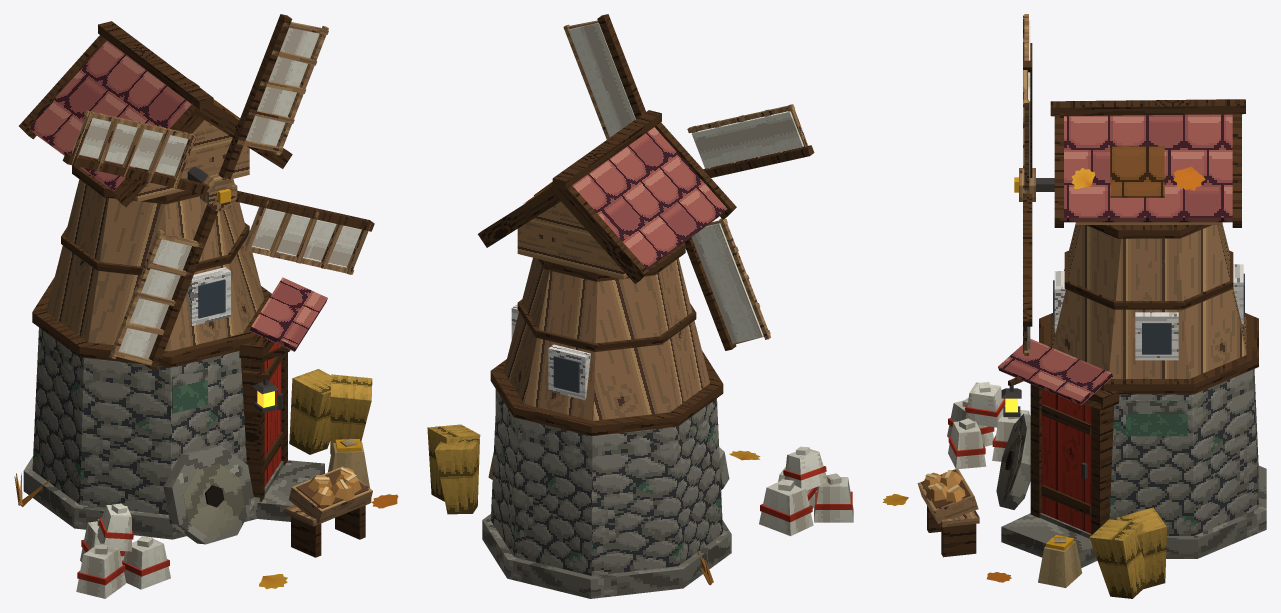
File: mill.glb
3 renders of one model, left to right at view 1: azimuth 30°, elevation 25°; view 2: azimuth 150°, elevation 25°; view 3: azimuth 270°, elevation 25°, orthographic. The views are drawn at different scales.
Visible parts, largest first — view 1: mill, spinY_blades; view 2: mill, spinY_blades; view 3: mill, spinY_blades.
Boxes of the visible parts, box(x1,y1,x2,y2) form: mill: box(14, 21, 398, 598); spinY_blades: box(62, 14, 374, 370); mill: box(427, 110, 853, 598); spinY_blades: box(563, 14, 814, 350); mill: box(882, 99, 1266, 598); spinY_blades: box(1014, 14, 1035, 355).
Size of the model in its own units: 5.34 by 6.85 by 4.97.
Materials: 30 (17 with a texture image).
